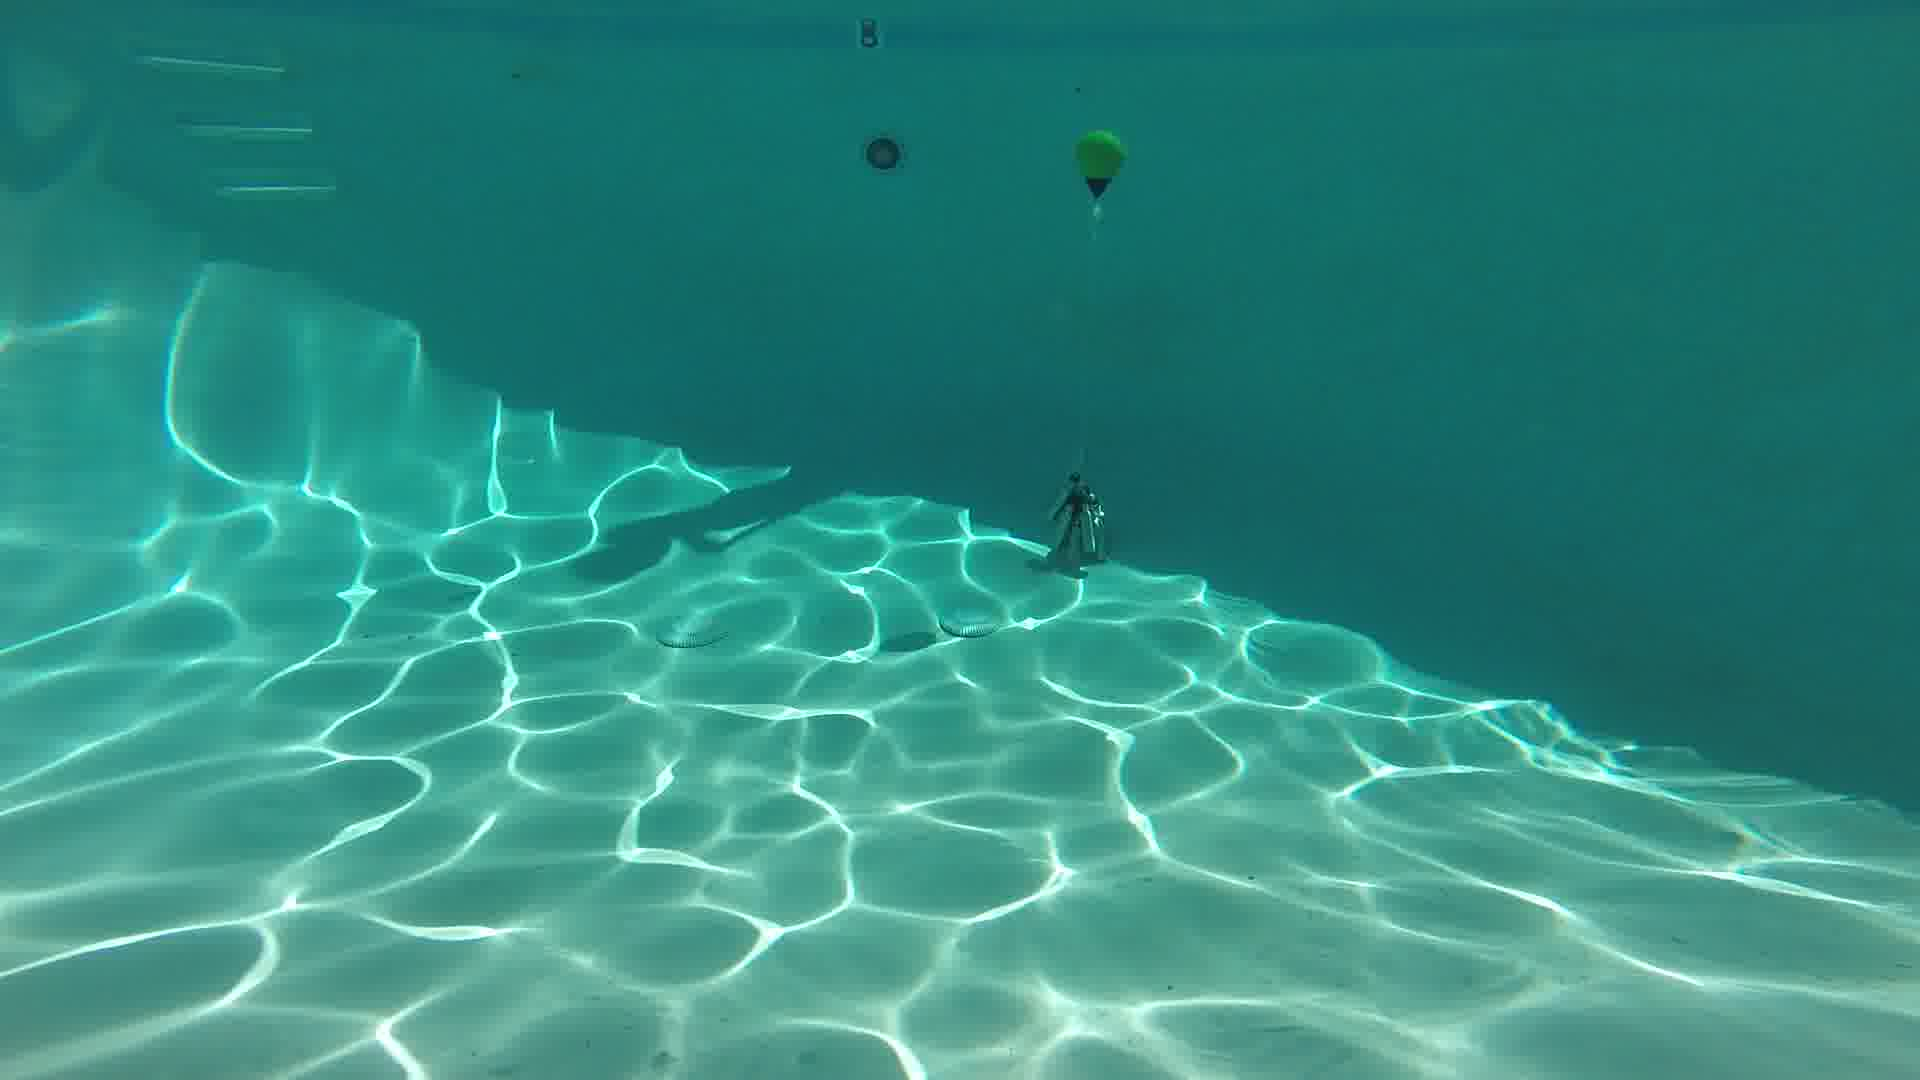yellow_buoy: (1077, 131, 1125, 199)
